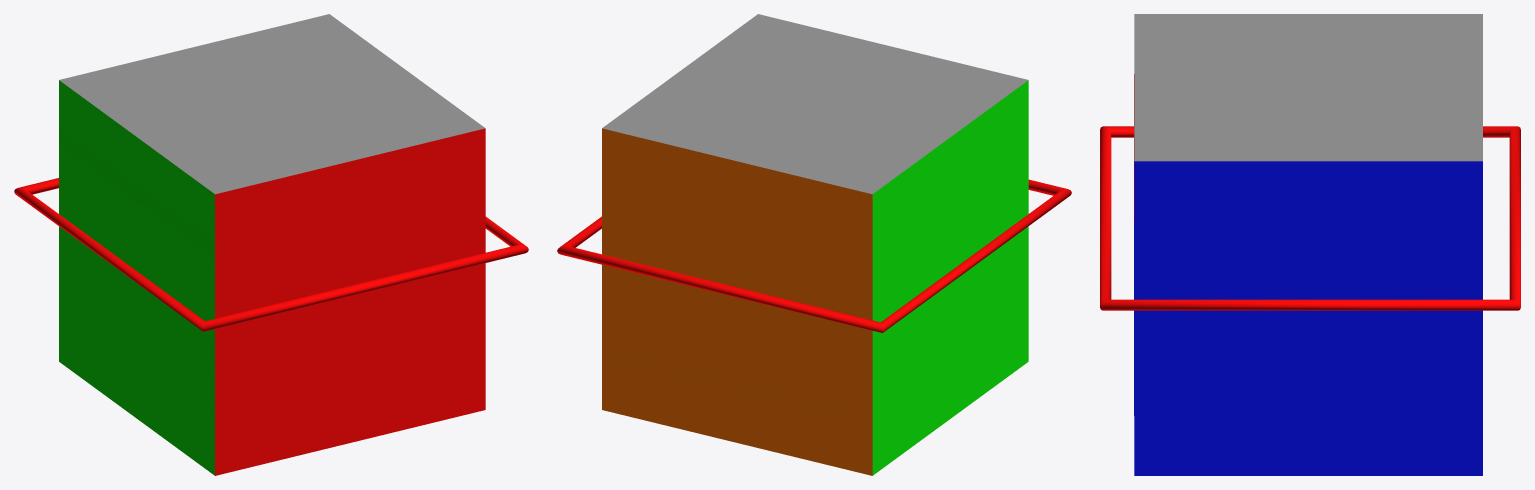
3 views of the same model, side by side, from view 1: azimuth 30°, elevation 25°; view 2: azimuth 150°, elevation 25°; view 3: azimuth 270°, elevation 25° (orthographic). The views are drawn at different scales.
Visible parts, largest first — view 1: Box001; view 2: Box001; view 3: Box001.
Part boxes in pixels (bbox=[...]): Box001: bbox=[14, 14, 528, 475]; Box001: bbox=[557, 14, 1071, 475]; Box001: bbox=[1100, 14, 1520, 475].
Size of the model in its own units: 205 by 169 by 205.
